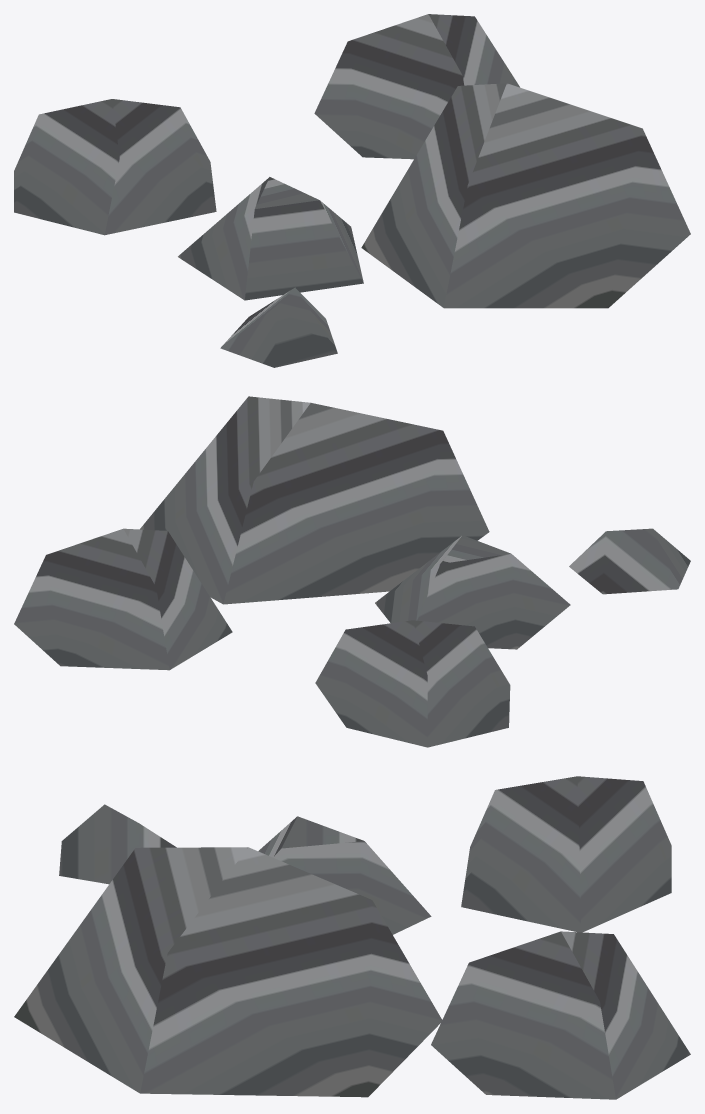
Rendered from rock_jclump1_hdtex.glb.
The picture shows the model from 3 angles, top to bottom: view 1: azimuth 30°, elevation 25°; view 2: azimuth 150°, elevation 25°; view 3: azimuth 270°, elevation 25°; orthographic projection. The views are drawn at different scales.
Parts seen in each view (by area): view 1: Rock_JClump1; view 2: Rock_JClump1; view 3: Rock_JClump1.
Boxes of the visible parts, x1,y1,x2,y2 form: Rock_JClump1: (14, 14, 690, 367); Rock_JClump1: (14, 396, 690, 747); Rock_JClump1: (14, 776, 690, 1099).
Size of the model in its own units: 16.01 by 4.59 by 16.53.
Materials: 1 (1 with a texture image).
